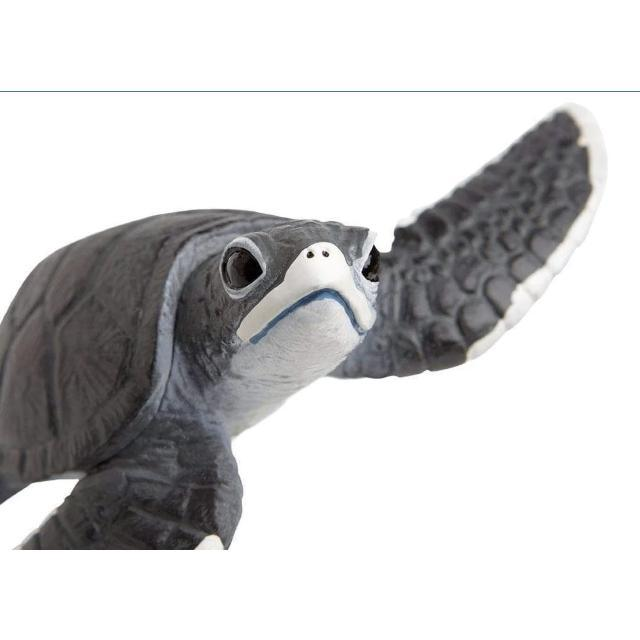turtle: (2, 103, 610, 548)
